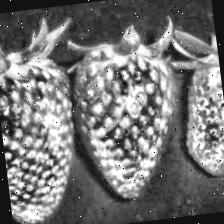Powdery Mildew Fruit: (62, 36, 189, 204), (0, 47, 88, 224), (175, 50, 224, 178)
